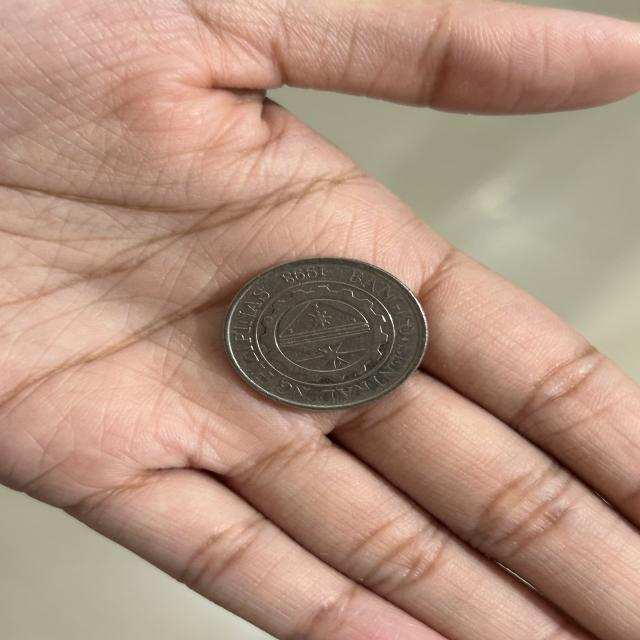1_Old_Back: (217, 260, 433, 409)
